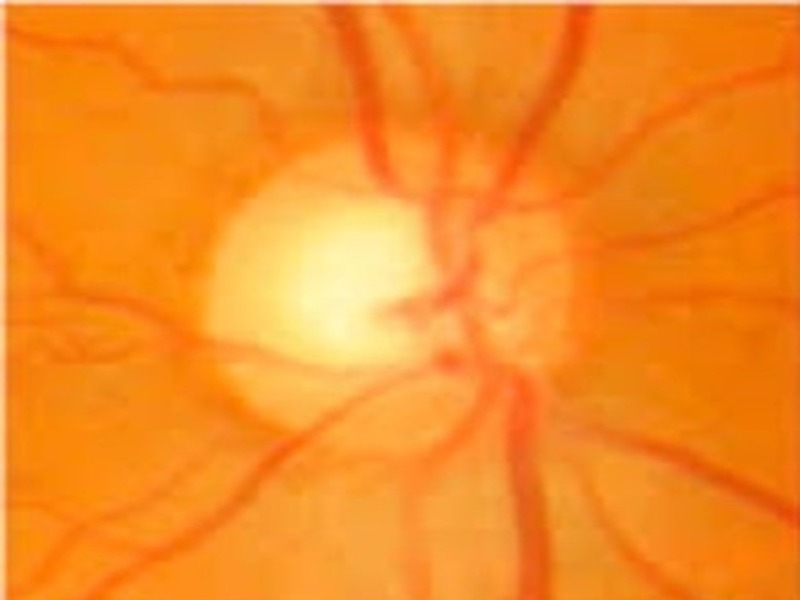Optic Cup: (283, 199, 426, 365)
Optic Disc: (204, 125, 593, 456)
